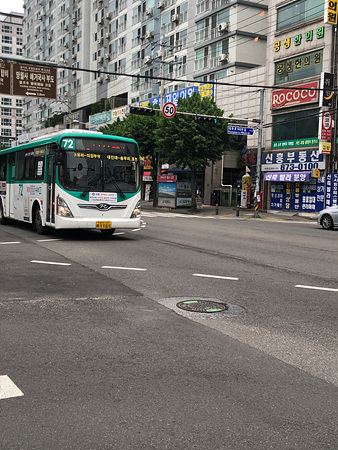bnum: (59, 135, 77, 150)
